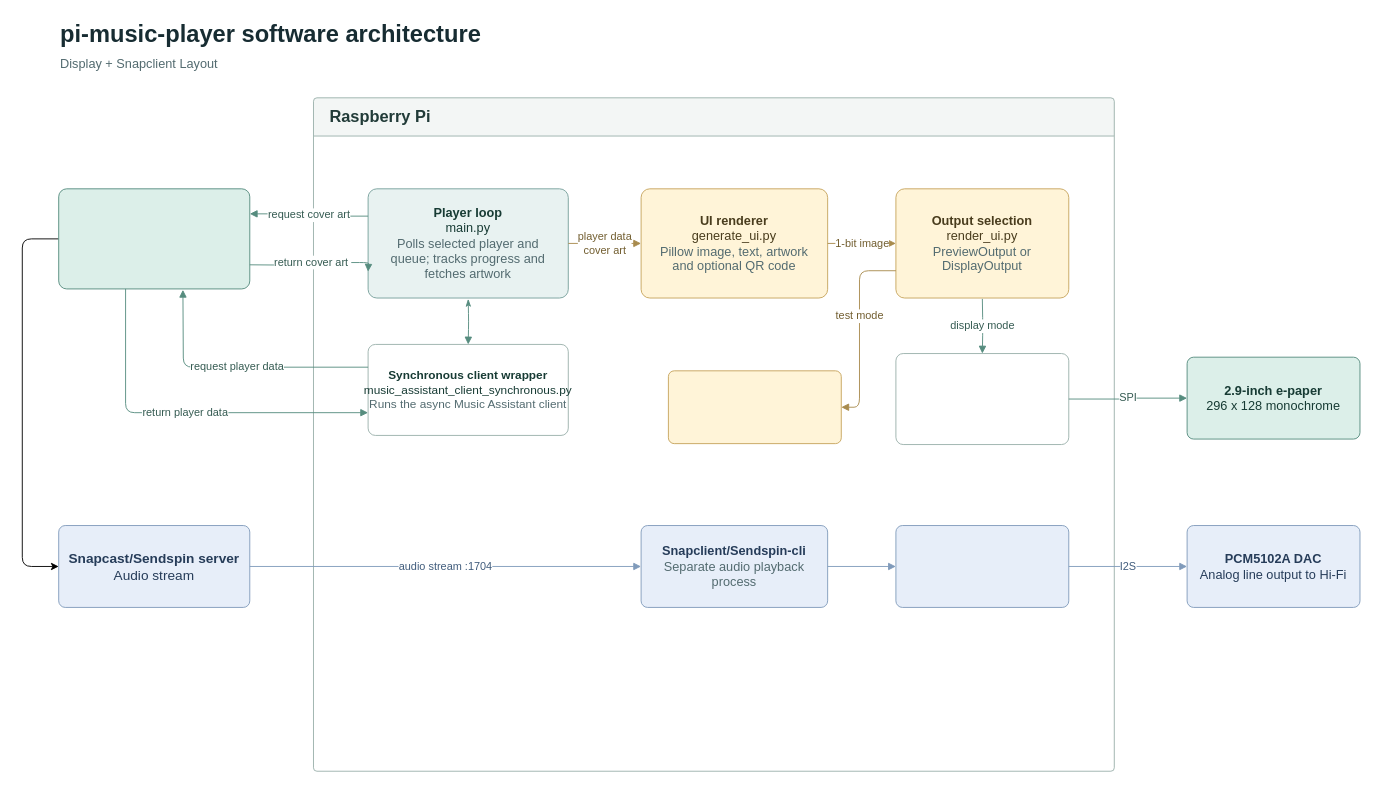
Some shapes in this 1376 by 787 pixel diagram are drawn without their labels. Here are the shapes that lost their labels. From the top down, the centre of each, then its label:
At [154,238]: "Music Assistant server Player, queue, cover art and optional Party URL".
At [754,407]: "PNG preview ui.png (--test)".
At [982,399]: "Waveshare V2 driver lib/waveshare_epd Full and partial refreshes".
At [982,566]: "ALSA / I2S Raspberry Pi audio output".
